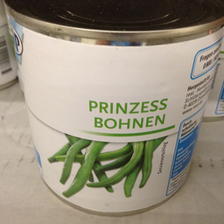beans: (4, 1, 221, 215)
